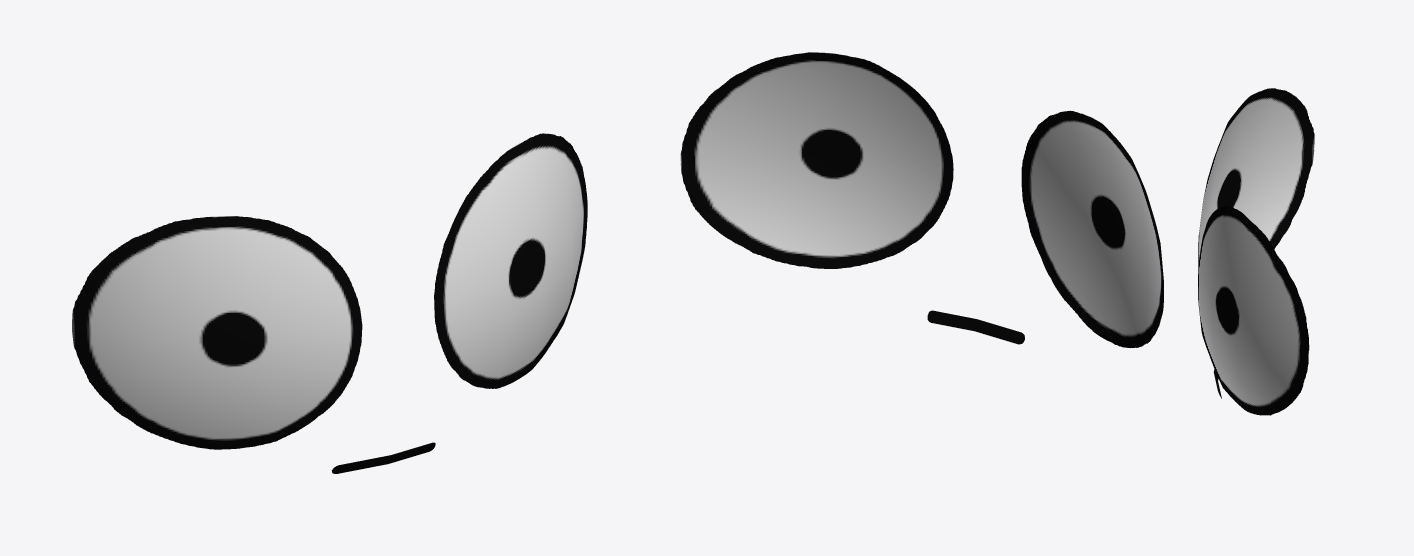
File: Shoked Face.fbx
3 views of the same model, side by side, from view 1: azimuth 30°, elevation 25°; view 2: azimuth 150°, elevation 25°; view 3: azimuth 270°, elevation 25° (orthographic). The views are drawn at different scales.
Visible parts, largest first — view 1: Shoked Face; view 2: Shoked Face; view 3: Shoked Face.
Part boxes in pixels (left/top/right/bottom): Shoked Face: left=72, top=133, right=587, bottom=473; Shoked Face: left=680, top=52, right=1163, bottom=347; Shoked Face: left=1198, top=88, right=1314, bottom=415.
Size of the model in its own units: 55.82 by 37.73 by 20.87.
